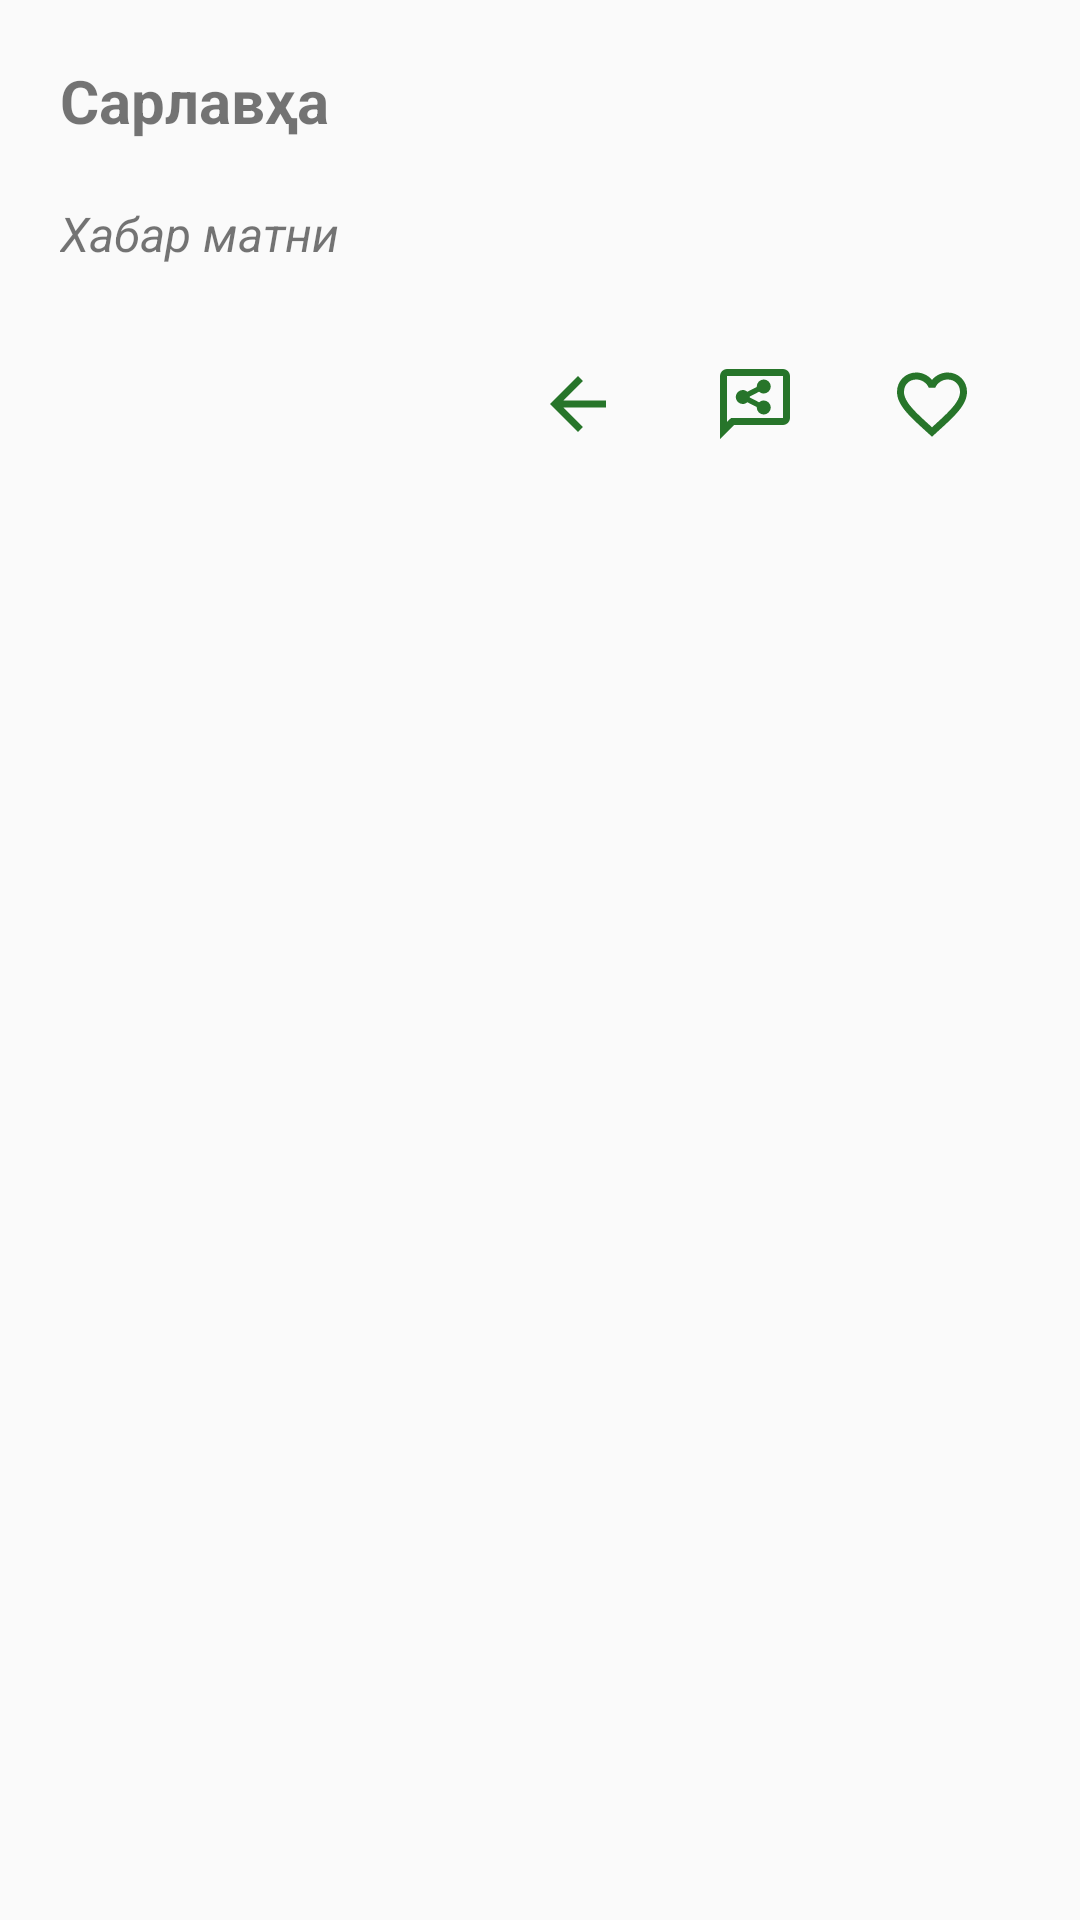

Screen size 1080px x 1920px. Icon name, then its box in pixels as rect(x1, y1, x2, y2):
arrow back: rect(550, 376, 606, 432)
favorite border: rect(897, 372, 967, 437)
share reviews: rect(720, 369, 790, 439)
